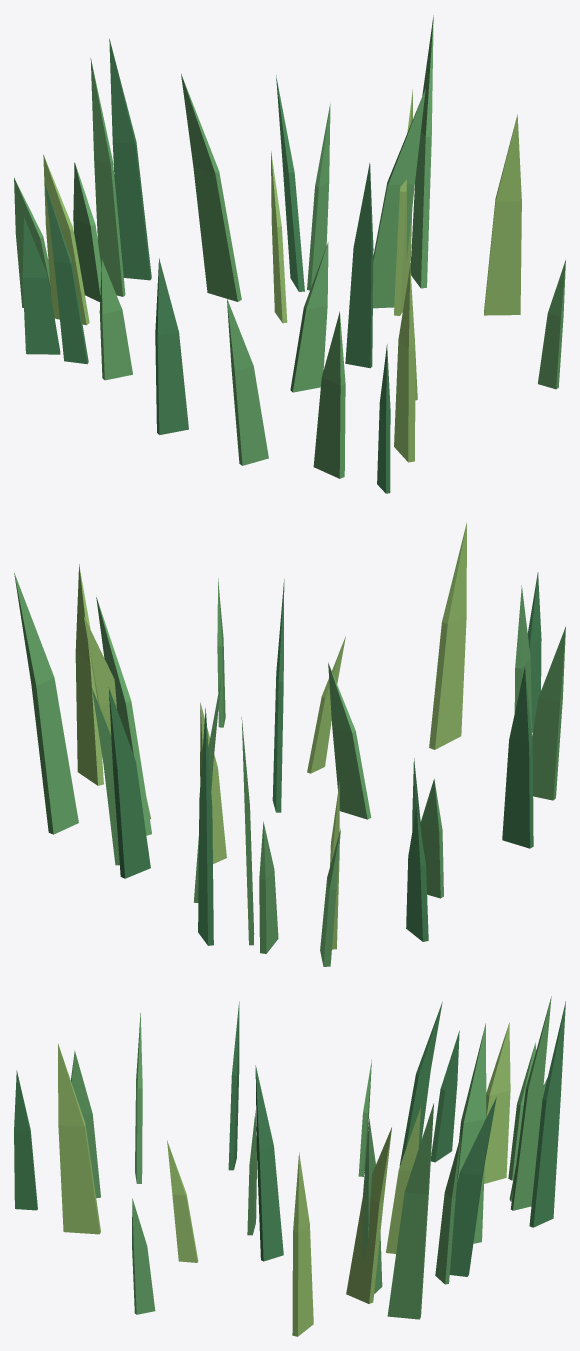
File: grass_clump_b.glb
3 views of the same model, one above another, from view 1: azimuth 30°, elevation 25°; view 2: azimuth 150°, elevation 25°; view 3: azimuth 270°, elevation 25° (orthographic). The views are drawn at different scales.
Parts seen in each view (by area): view 1: Grass_1.001, Grass_2.001, Grass_3.001, Grass_4.001; view 2: Grass_1.001, Grass_3.001, Grass_4.001, Grass_2.001; view 3: Grass_1.001, Grass_4.001, Grass_3.001, Grass_2.001.
Boxes of the visible parts, x1,y1,x2,y2 form: Grass_1.001: (22, 38, 390, 493); Grass_2.001: (14, 74, 425, 465); Grass_3.001: (73, 15, 565, 478); Grass_4.001: (43, 89, 521, 462); Grass_1.001: (108, 572, 541, 945); Grass_3.001: (14, 572, 532, 953); Grass_4.001: (75, 522, 466, 949); Grass_2.001: (91, 597, 565, 966); Grass_1.001: (14, 1001, 565, 1276); Grass_4.001: (58, 1022, 510, 1336); Grass_3.001: (71, 996, 551, 1319); Grass_2.001: (135, 1013, 536, 1293).
Size of the model in its own units: 1.23 by 0.6979 by 1.52.
